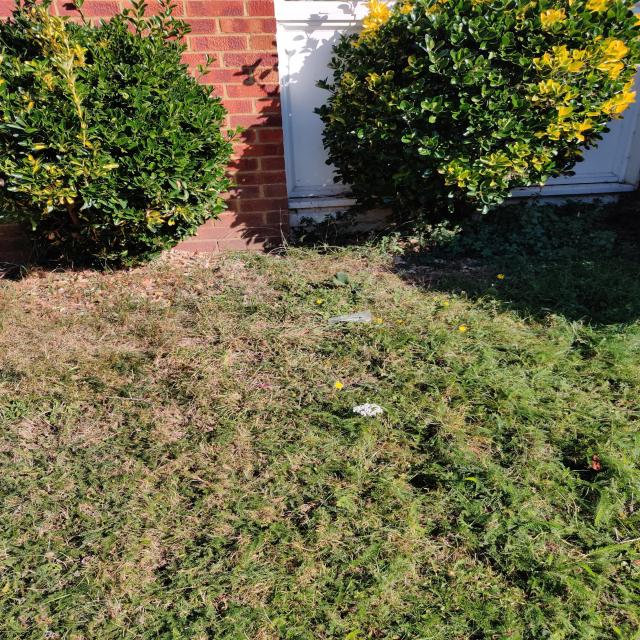litter: (324, 310, 374, 327)
